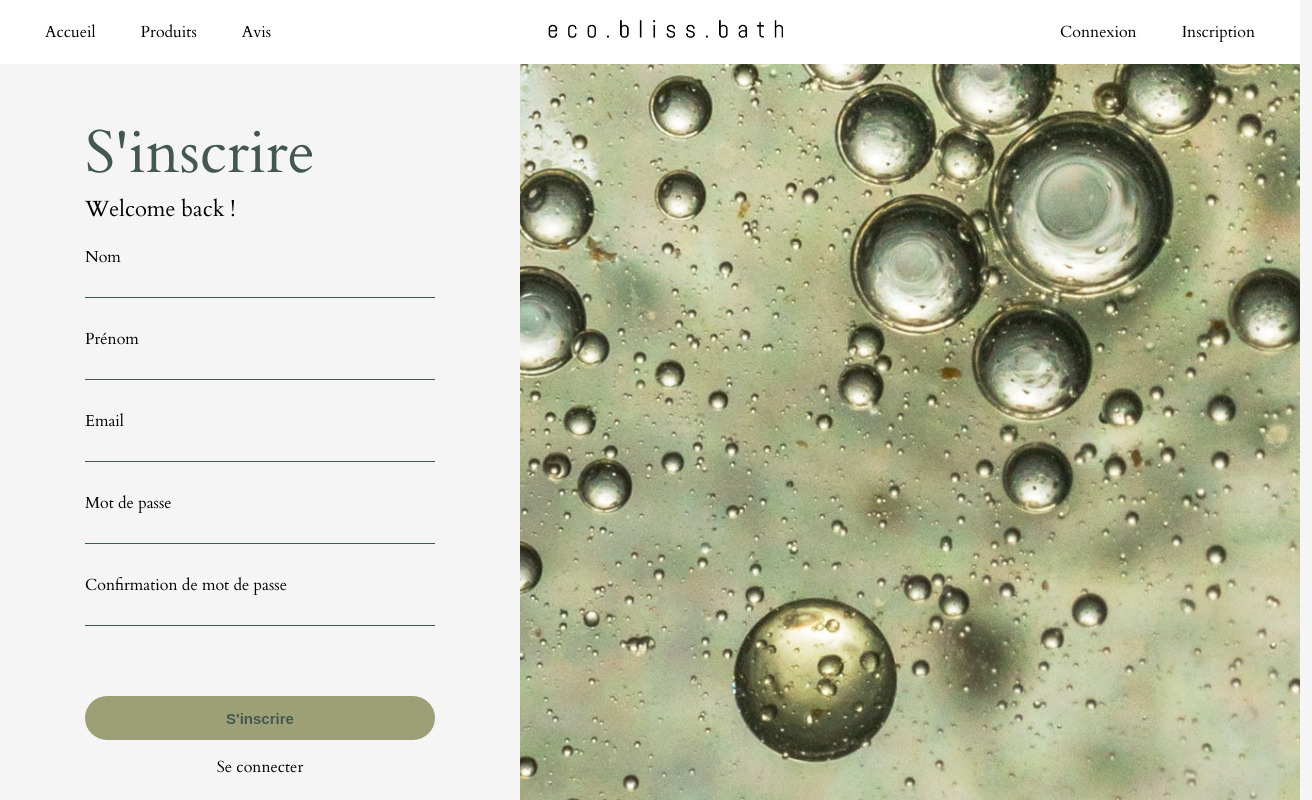
registration for user › shouldnt register a user because he's already used
Type "Test3" into the field with test id "register-input-lastname" at (260, 283), box [85,268,435,298]
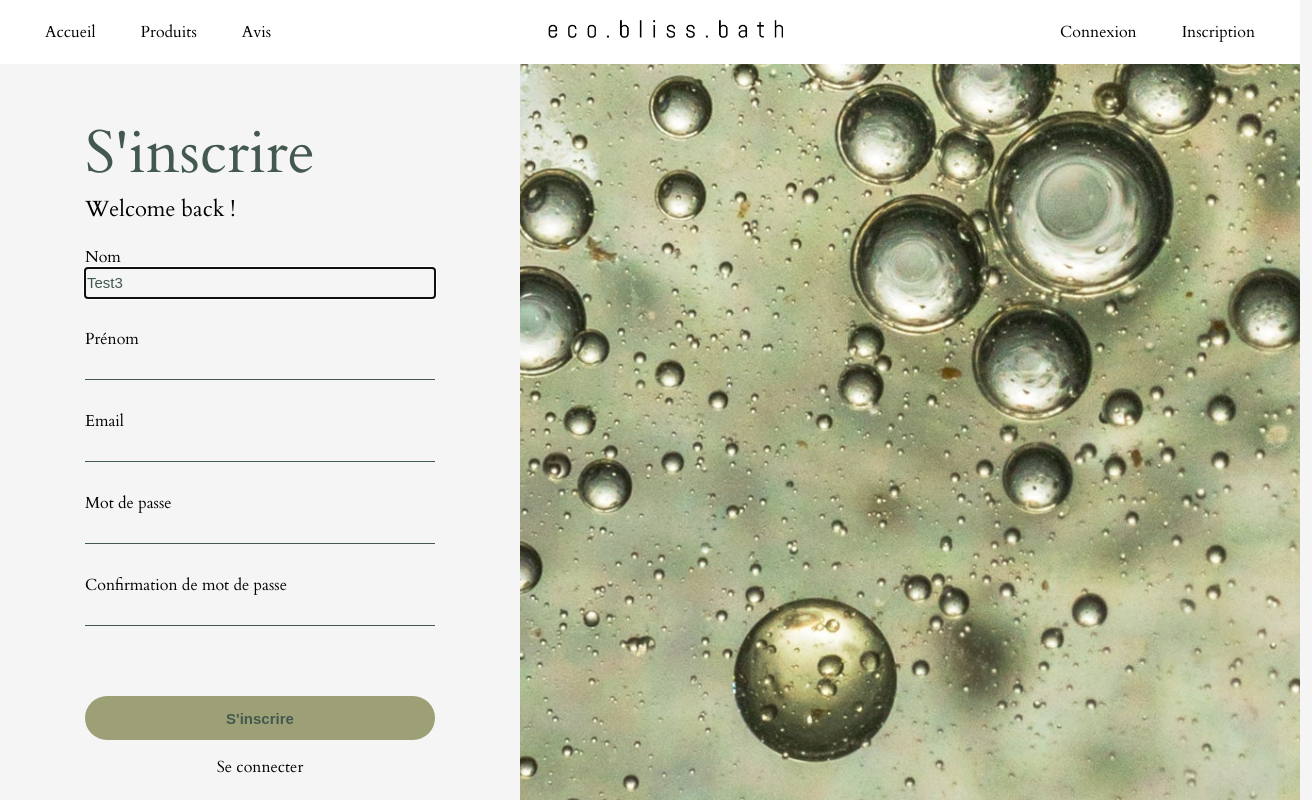
Type "T3" into the field with test id "register-input-firstname" at (260, 365), box [85,350,435,380]
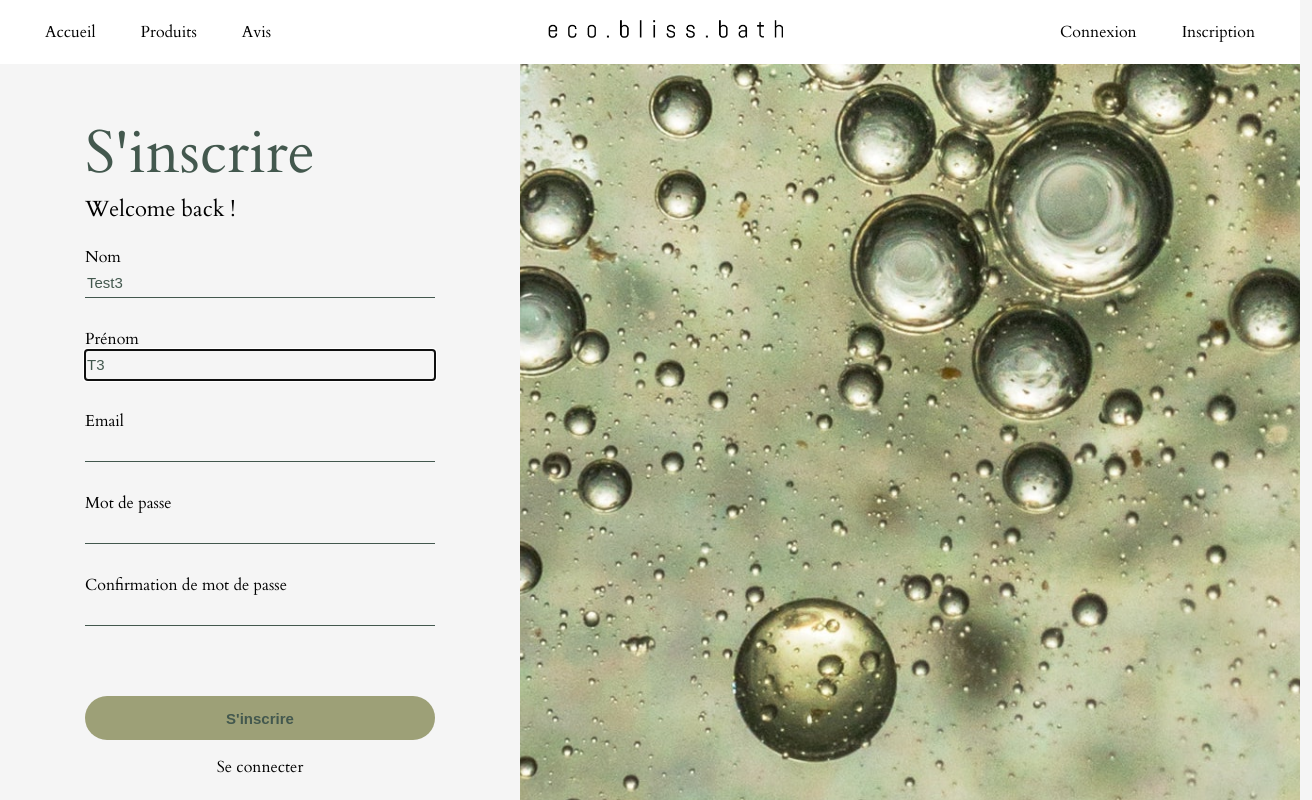
Type "test3@test.test" into the field with test id "register-input-email" at (260, 447), box [85,432,435,462]
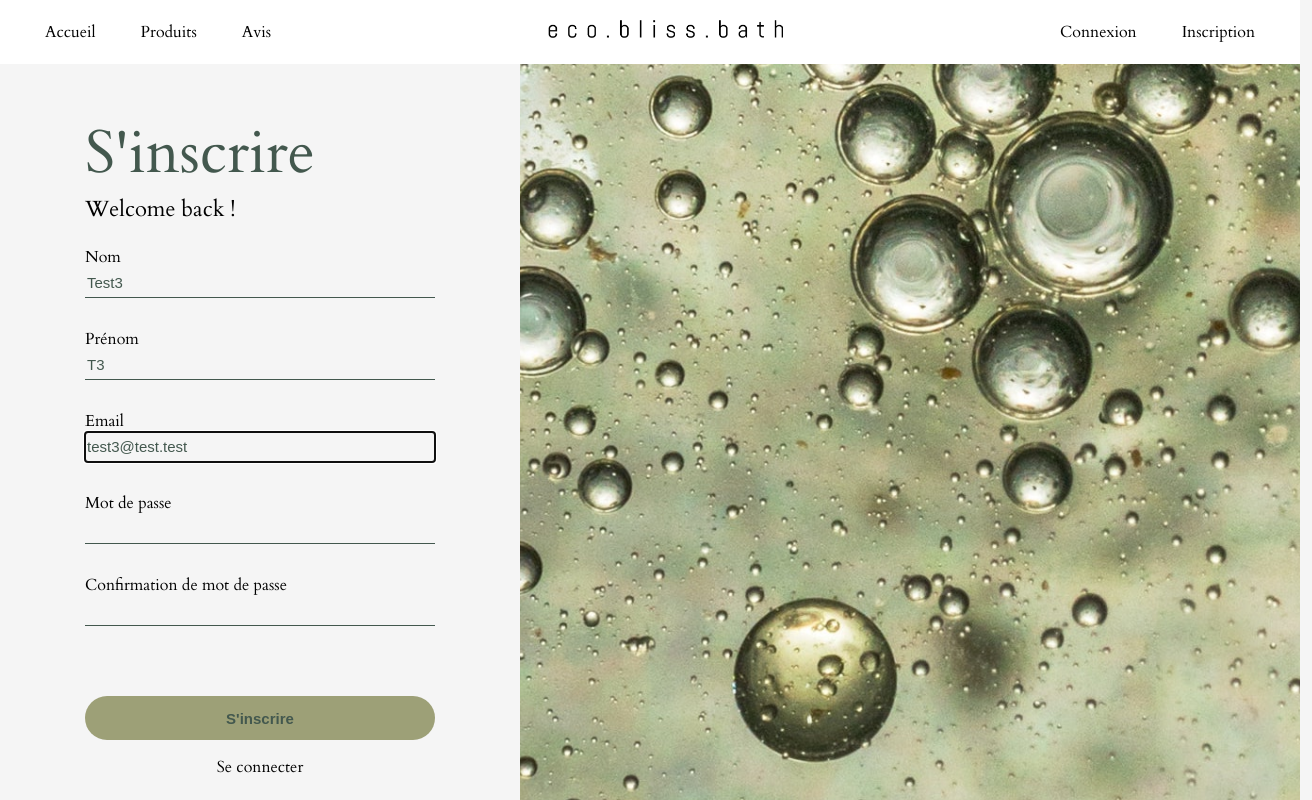
Type "testtest" into the password field with test id "register-input-password" at (260, 529), box [85,514,435,544]
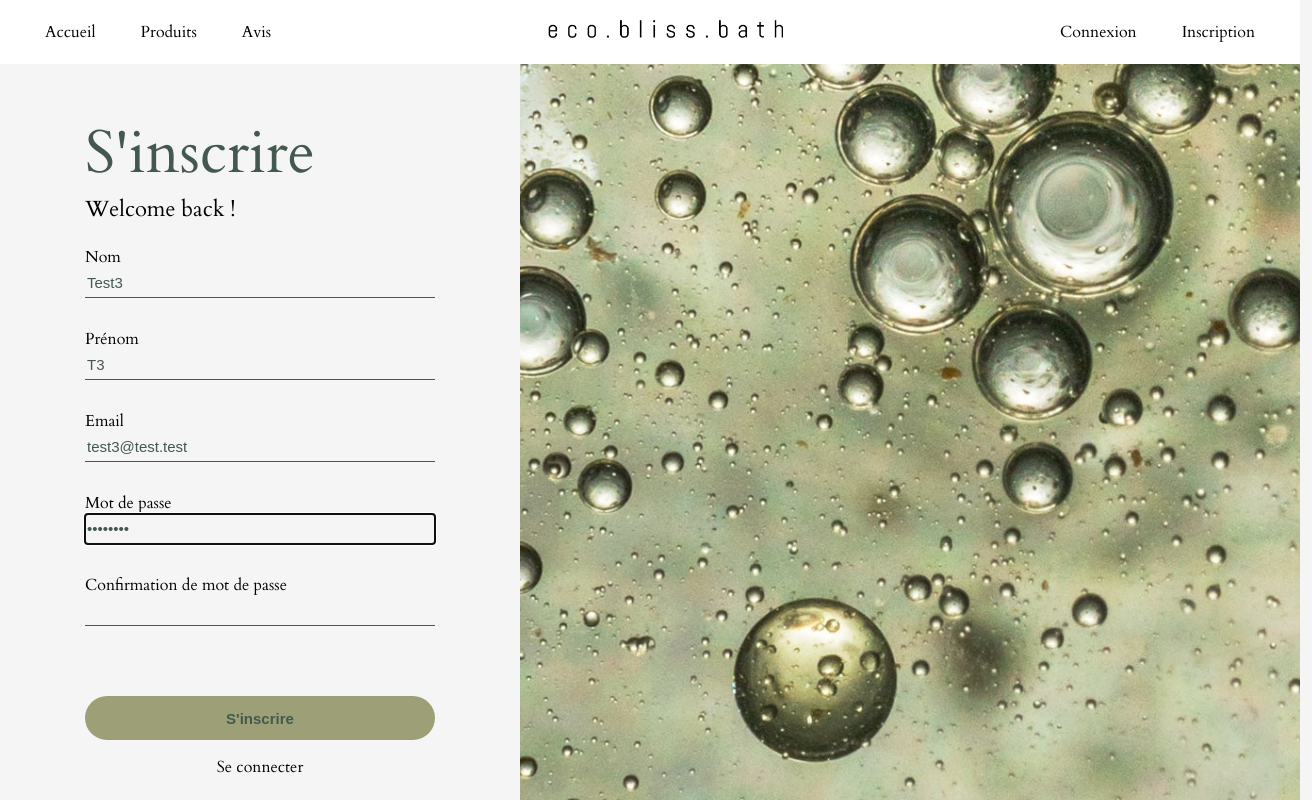
Type "testtest" into the password field with test id "register-input-password-confirm" at (260, 611), box [85,596,435,626]
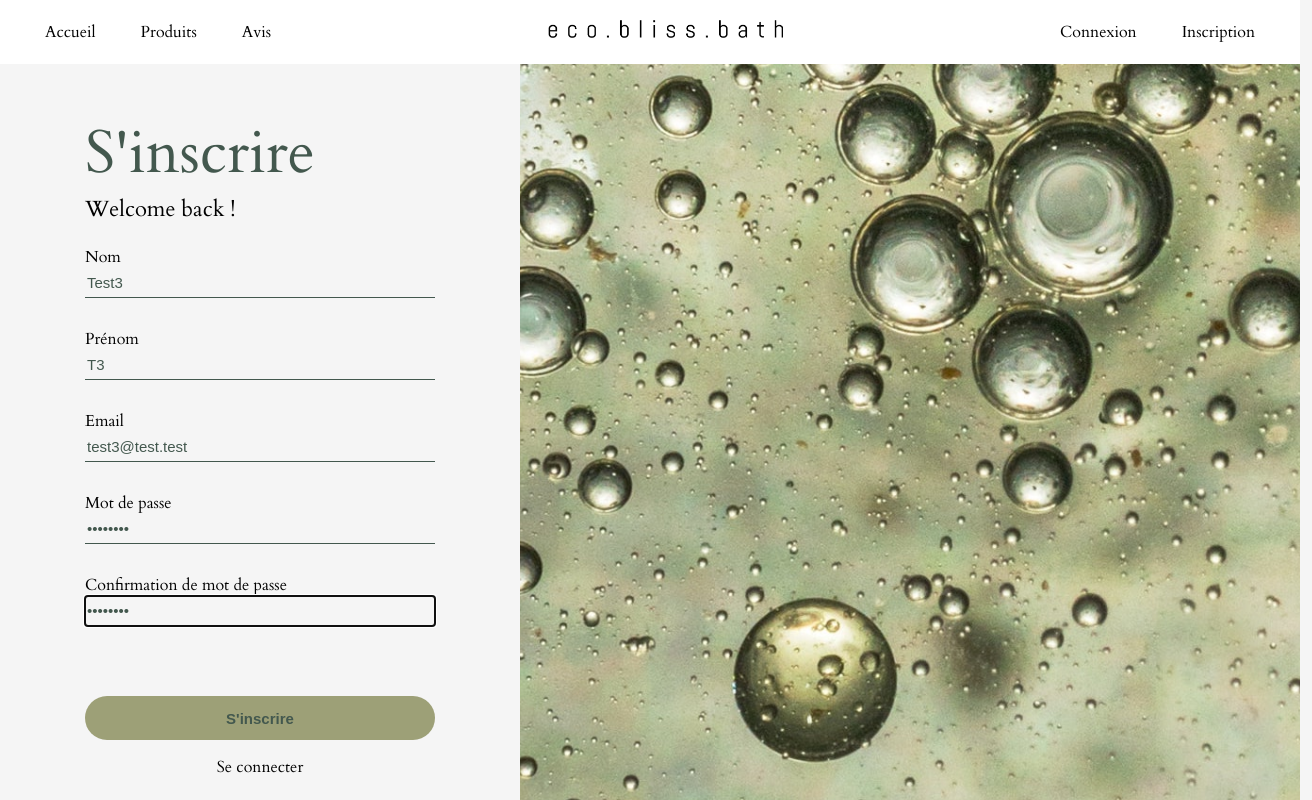
Click the button with test id "register-submit" at (260, 718), box [85,696,435,740]
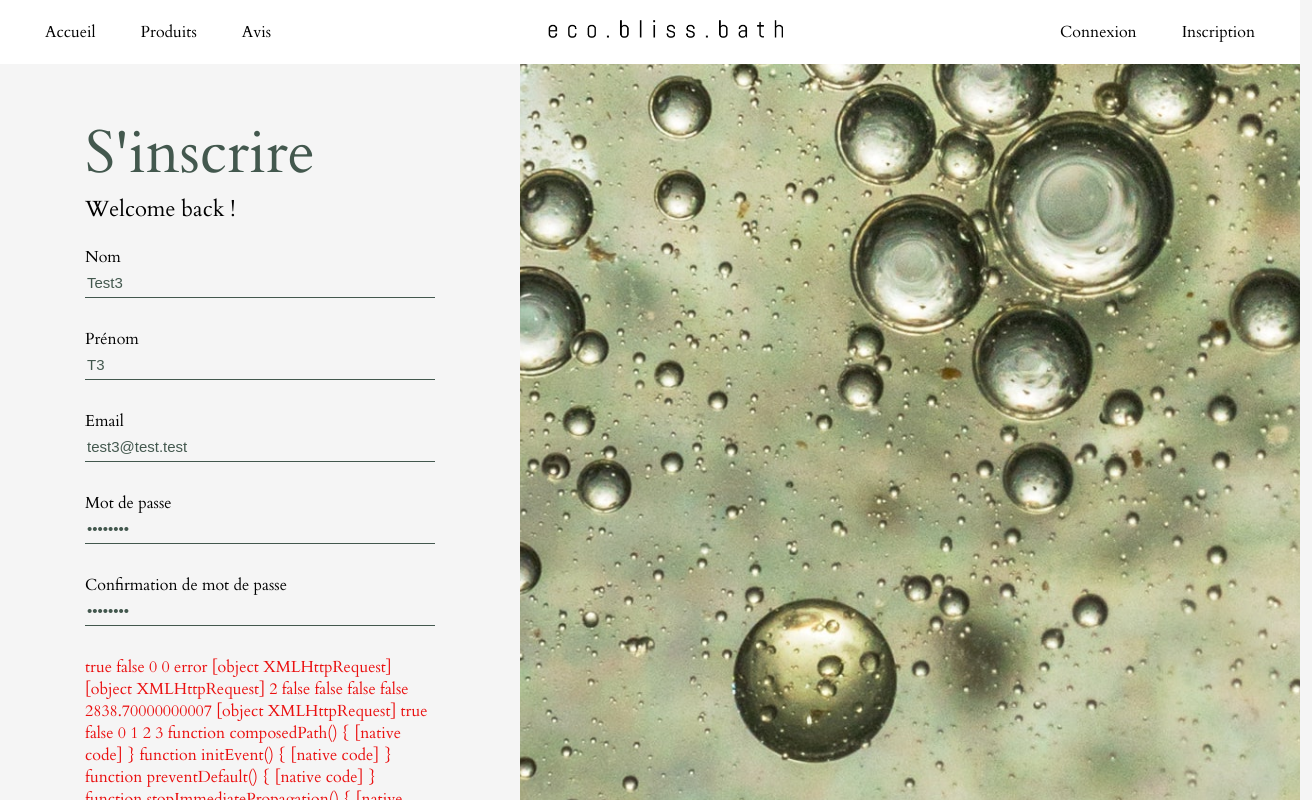
Now the text with test id "register-errors" is shown, box [85,656,435,799]
